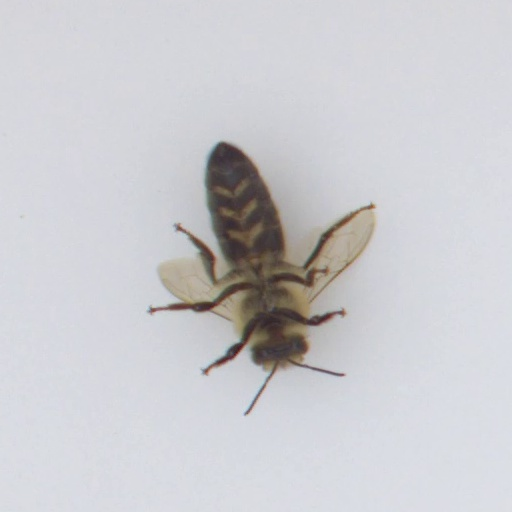Bee: (191, 129, 319, 381)
